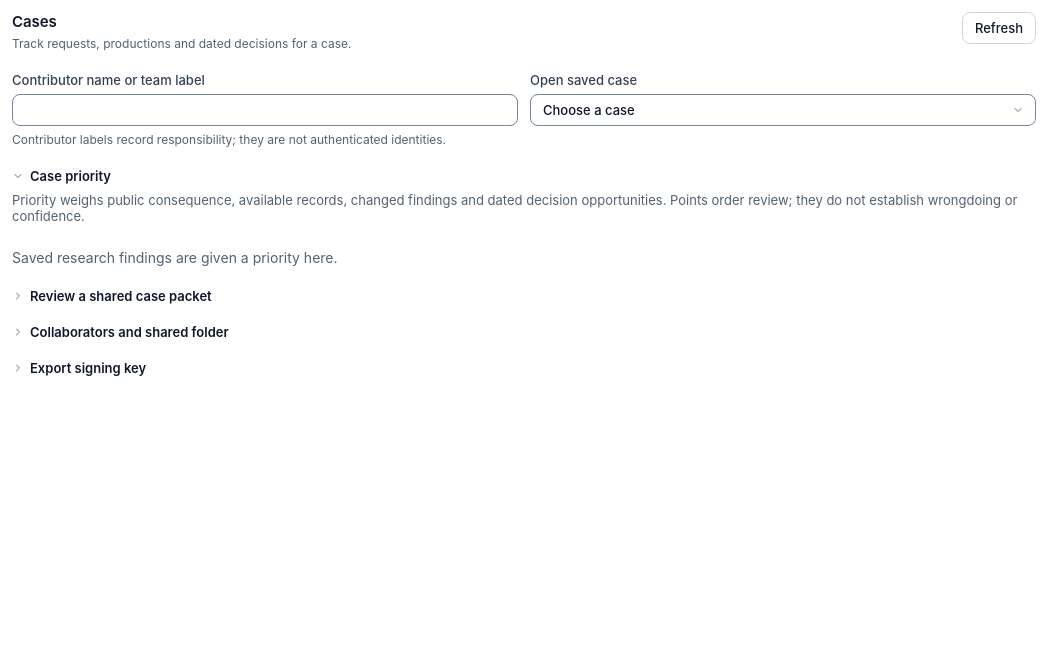
Test case: persistent casework › makes historical versions and the need to review conclusions visible while notes remain editable
Select "Shelter contract · revision 1" in the dropdown labelled "Open saved case": x=783, y=110 [530,94,1036,126]
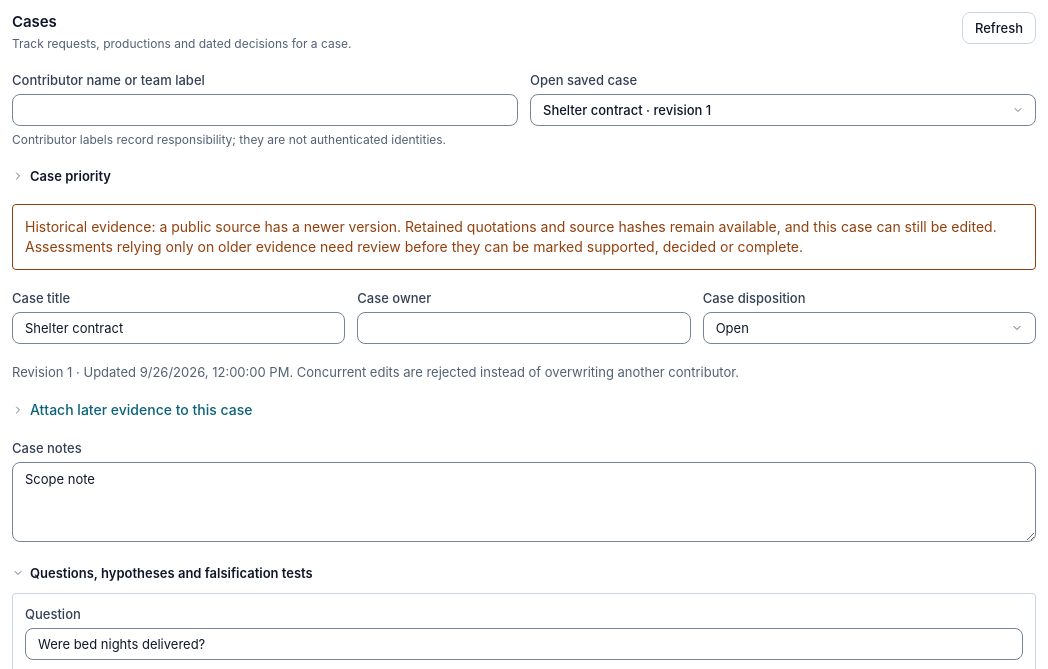
In the field labelled "Contributor name or team label": x=265, y=110 [12,94,518,126], type "Reporter"
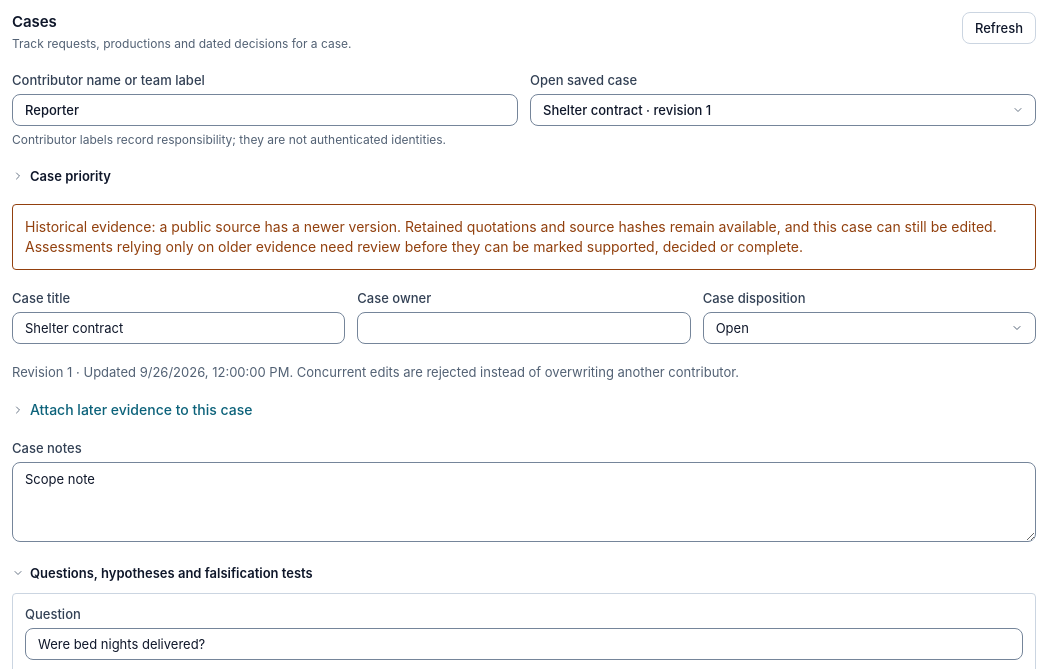
Now the text "Historical evidence: a public source has a newer version" is shown, box [25,218,997,255]
Replace the text in the text box labelled "Case notes" with "Compare the preserved quotation to the new publication.": x=524, y=502 [12,462,1036,542]
(page scrolled)
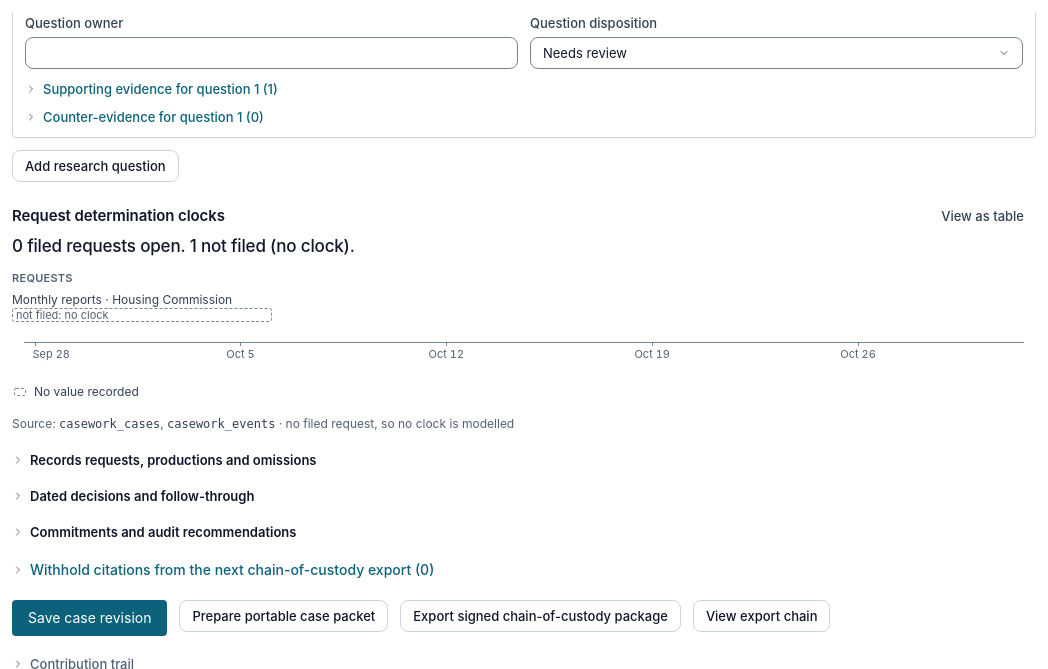
Click the button "Save case revision": x=90, y=618 [12,600,168,636]
(page scrolled)
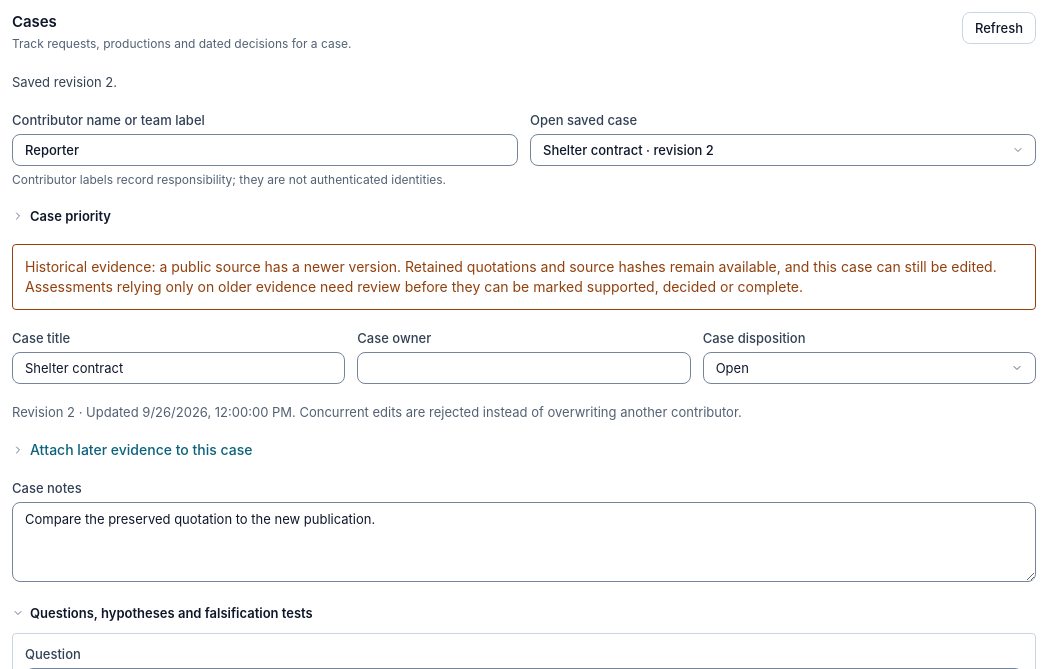
Now the text "Saved revision 2." is shown, box [12,74,117,90]
